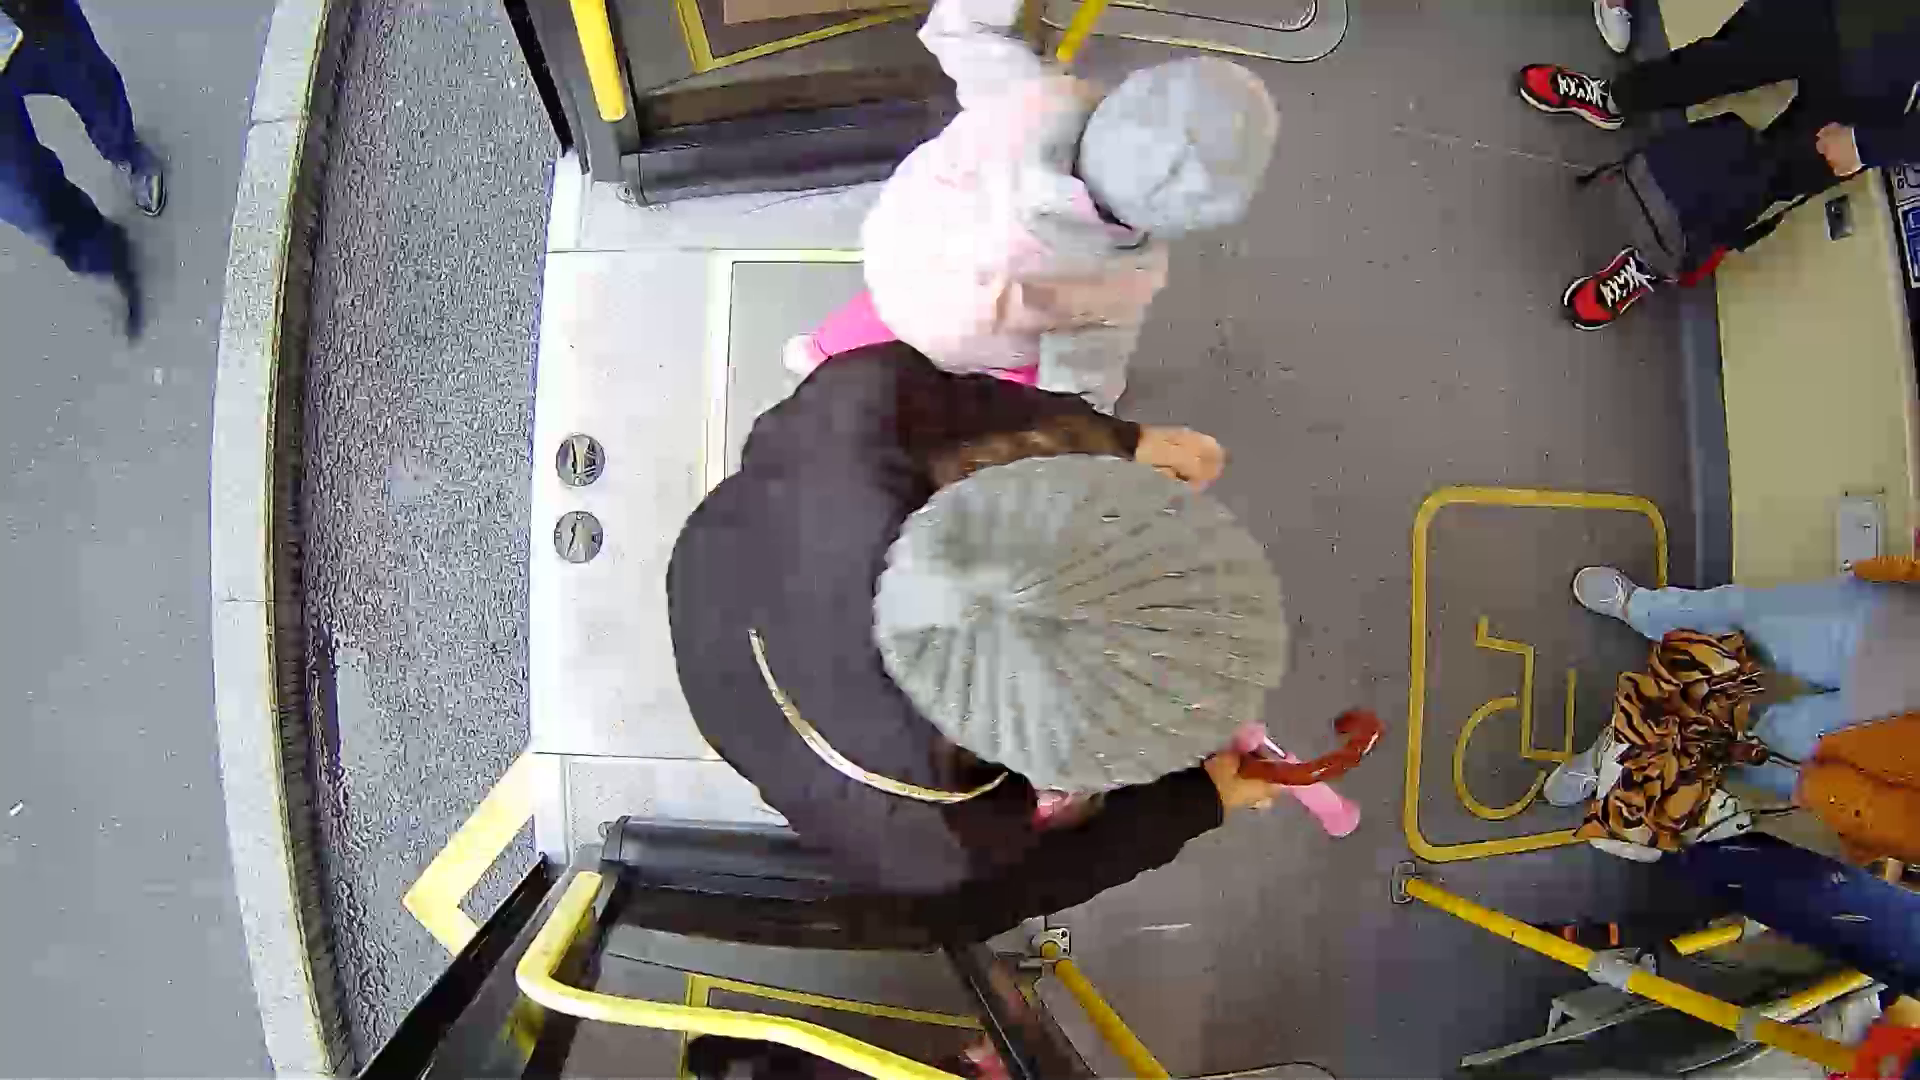person: (713, 27, 1566, 478), (620, 364, 1337, 887)
